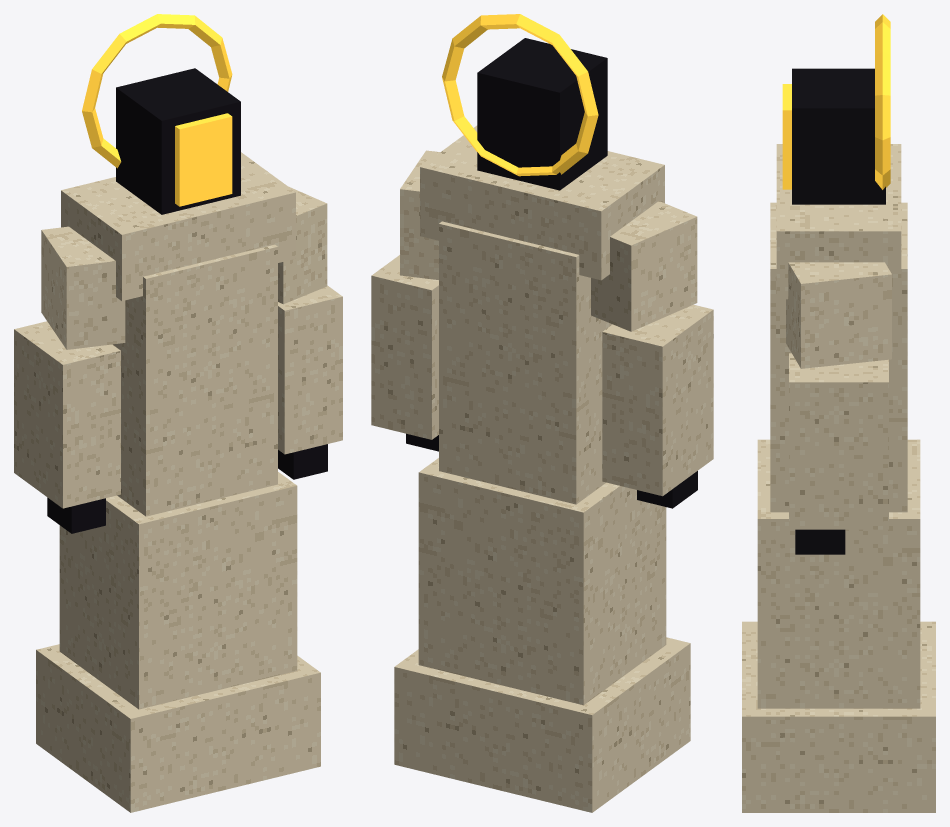
File: faceless_saint_lowpoly.glb
3 renders of one model, left to right at view 1: azimuth 30°, elevation 25°; view 2: azimuth 150°, elevation 25°; view 3: azimuth 270°, elevation 25°, orthographic. The views are drawn at different scales.
Visible parts, largest first — view 1: robe_lower, robe_column, hem, sleeve_drape_1, shoulders, hood, sleeve_drape_0, sleeve_upper_1, faceless_head, halo, sleeve_upper_0, hidden_hand_1 (+1 smaller); view 2: robe_lower, robe_column, hem, sleeve_drape_1, shoulders, hood, sleeve_drape_0, sleeve_upper_1, halo, sleeve_upper_0, hidden_hand_1; view 3: robe_lower, hem, sleeve_drape_0, hood, sleeve_upper_0, shoulders, robe_column, halo, hidden_hand_0, faceless_head.
Part boxes in pixels (x1,y1,x2,y2): robe_lower: [59, 472, 297, 709]; robe_column: [112, 244, 277, 516]; hem: [36, 644, 320, 812]; sleeve_drape_1: [14, 321, 120, 508]; shoulders: [61, 152, 295, 300]; hood: [116, 68, 240, 214]; sleeve_drape_0: [278, 285, 342, 454]; sleeve_upper_1: [41, 226, 125, 349]; faceless_head: [175, 113, 232, 206]; halo: [82, 14, 232, 168]; sleeve_upper_0: [278, 186, 327, 304]; hidden_hand_1: [47, 497, 105, 533]; robe_lower: [418, 458, 666, 705]; robe_column: [439, 221, 612, 504]; hem: [394, 637, 690, 812]; sleeve_drape_1: [602, 304, 713, 496]; shoulders: [420, 125, 664, 280]; hood: [477, 38, 607, 190]; sleeve_drape_0: [371, 255, 438, 439]; sleeve_upper_1: [591, 201, 697, 331]; halo: [442, 14, 598, 176]; sleeve_upper_0: [400, 150, 439, 279]; hidden_hand_1: [637, 471, 697, 508]; robe_lower: [757, 439, 920, 708]; hem: [742, 621, 935, 812]; sleeve_drape_0: [789, 353, 888, 529]; hood: [792, 68, 885, 204]; sleeve_upper_0: [786, 262, 891, 368]; shoulders: [776, 144, 901, 299]; robe_column: [770, 202, 907, 512]; halo: [875, 14, 890, 189]; hidden_hand_0: [795, 529, 845, 554]; faceless_head: [782, 84, 791, 189].
Size of what is drawn, in the model's own units: 1.06 by 2.62 by 0.62.
3 materials, 1 textured.
